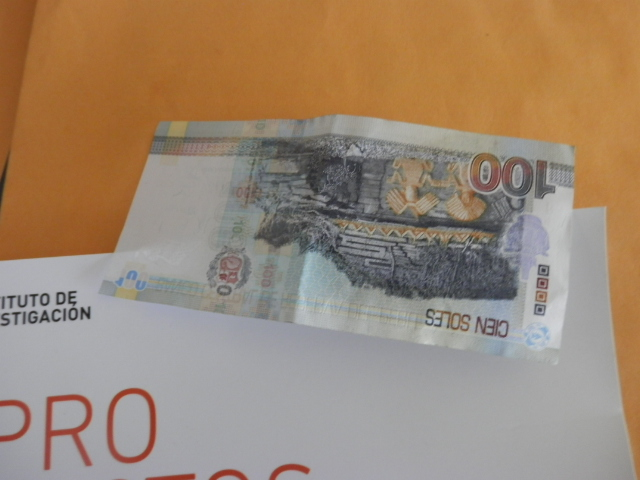B100: (112, 117, 593, 375)
